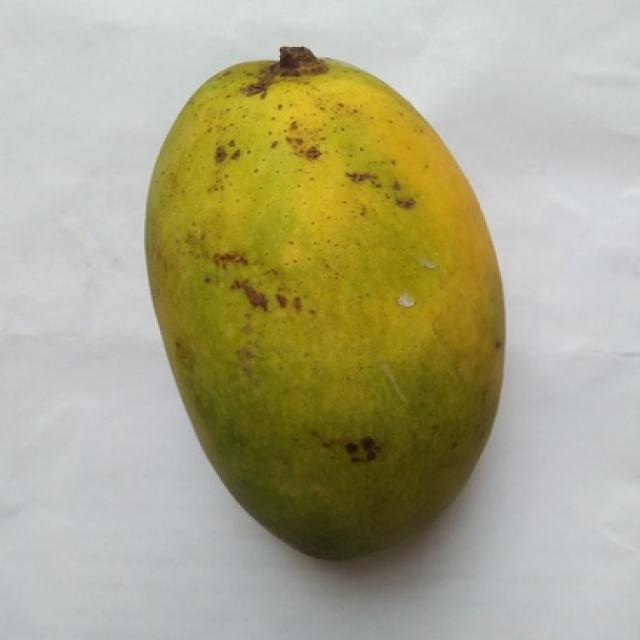Mango: (146, 48, 503, 557)
